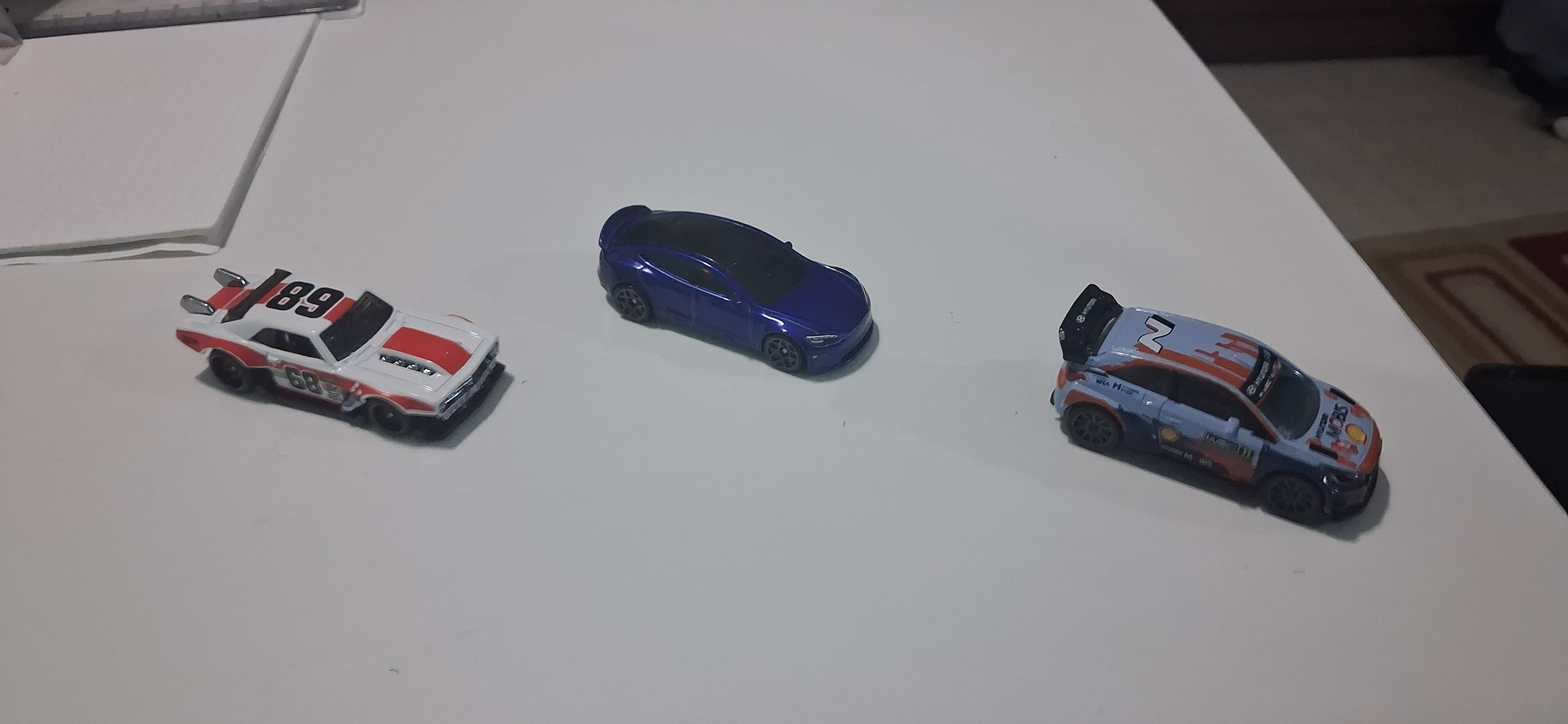Camaro: (173, 224, 521, 488)
Hyundai_I20_WRC: (1033, 251, 1418, 546)
Tesla_Model_S_Plaid: (571, 187, 920, 402)
